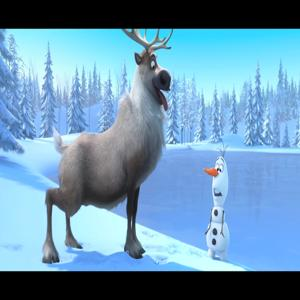olaf: (209, 153, 236, 258)
sven: (49, 31, 176, 261)
